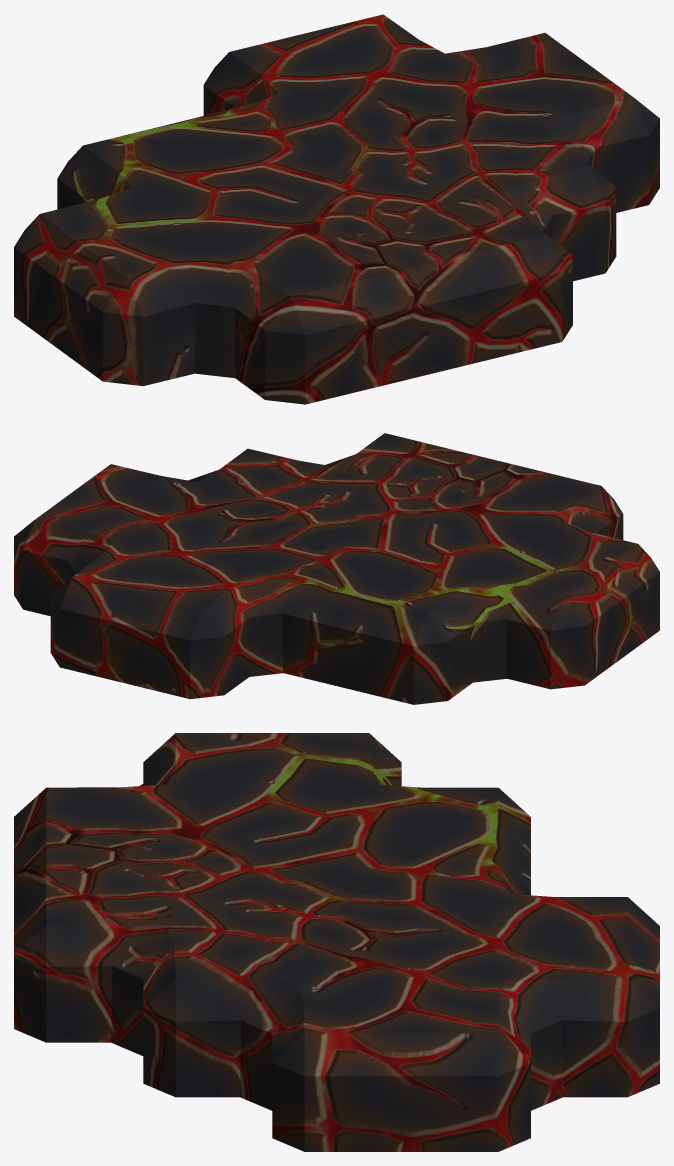
Rendered from IslandSmall3.fbx.
The picture shows the model from 3 angles, top to bottom: view 1: azimuth 30°, elevation 25°; view 2: azimuth 150°, elevation 25°; view 3: azimuth 270°, elevation 25°; orthographic projection. The views are drawn at different scales.
Parts seen in each view (by area): view 1: Small_Island; view 2: Small_Island; view 3: Small_Island.
Part boxes in pixels (bbox=[...]): Small_Island: bbox=[14, 14, 659, 404]; Small_Island: bbox=[14, 433, 659, 704]; Small_Island: bbox=[14, 733, 659, 1151].
Bounding box in the file's own units: 626 × 93.39 × 521.
